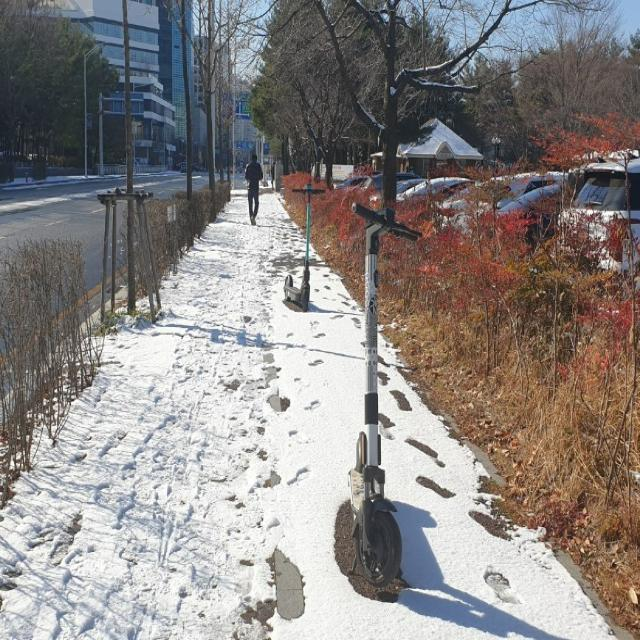human: (247, 150, 263, 222)
kickboard_no: (357, 204, 405, 599), (292, 181, 322, 312)
